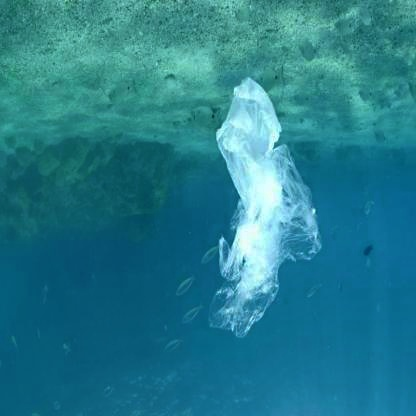pbag: (209, 76, 322, 340)
